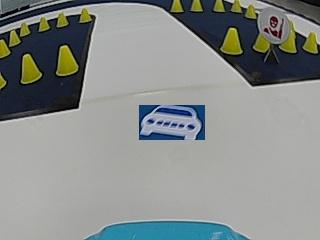evil: (257, 7, 289, 44)
